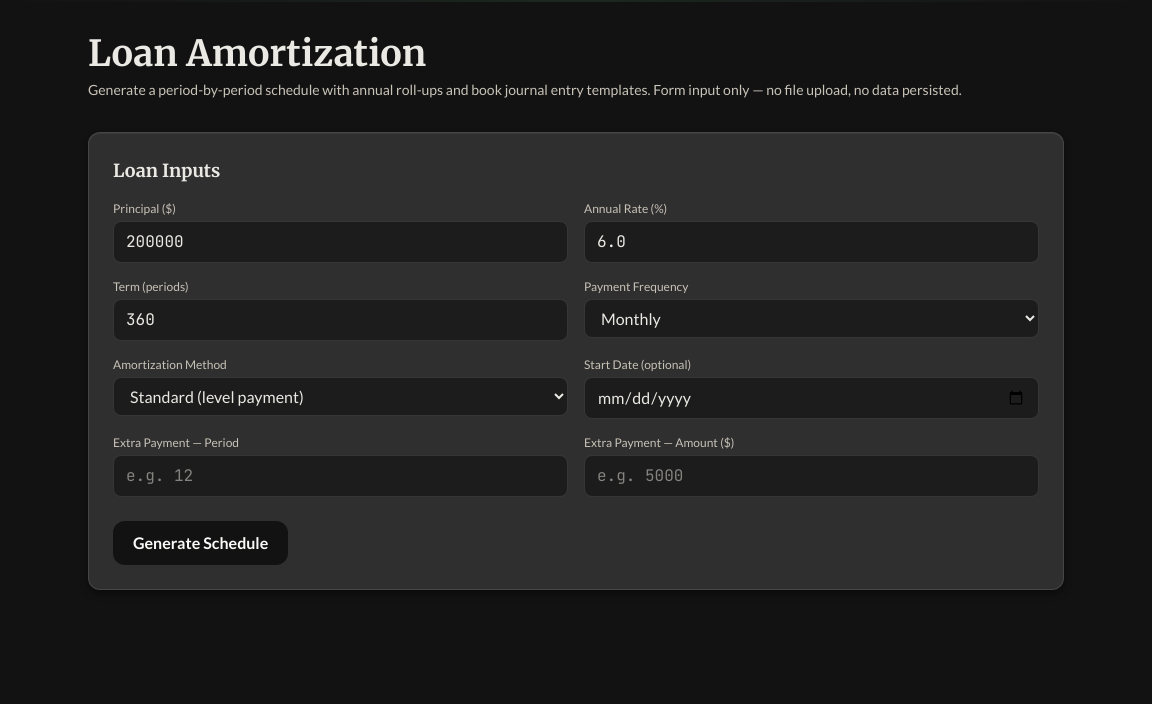
Test: LoanAmortizationPage › renders summary, annual table, schedule, and journal entry templates on success
This screenshot has width=1152, height=704.
Click the button "Generate Schedule".
click(201, 543)  # box [113,521,288,565]
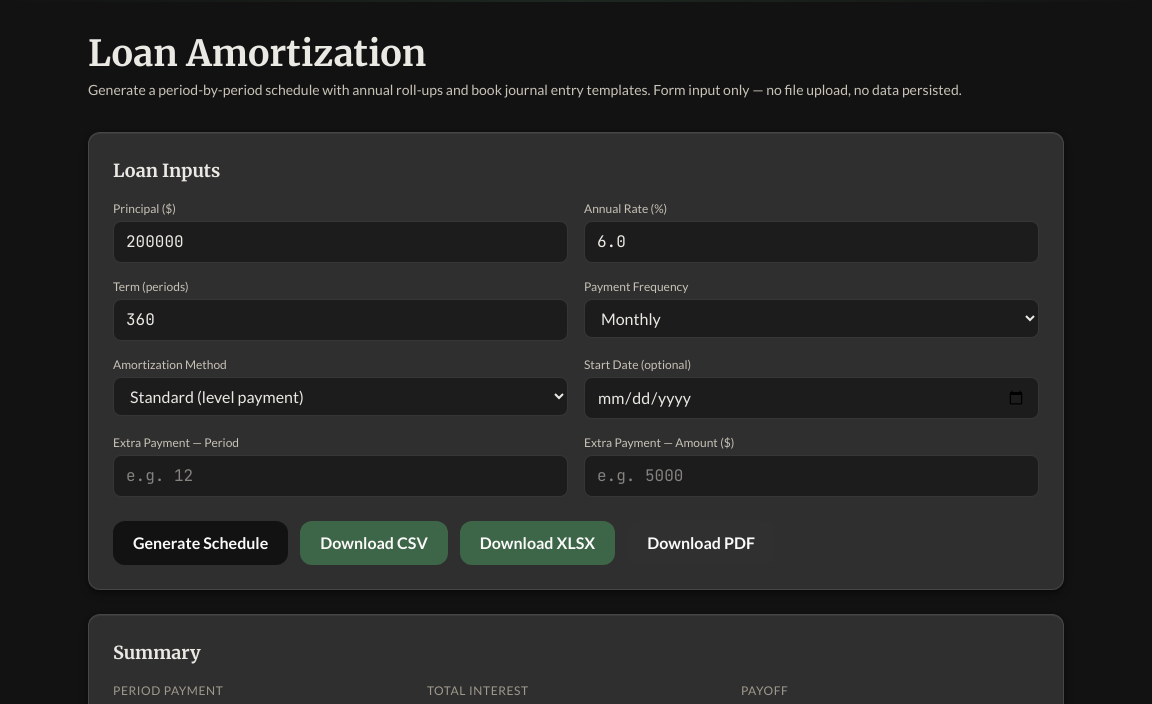
Now the heading "Summary" is shown, box [113,641,201,664]
Now the button "Download CSV" is shown, box [300,521,448,565]
Now the button "Download XLSX" is shown, box [460,521,615,565]
